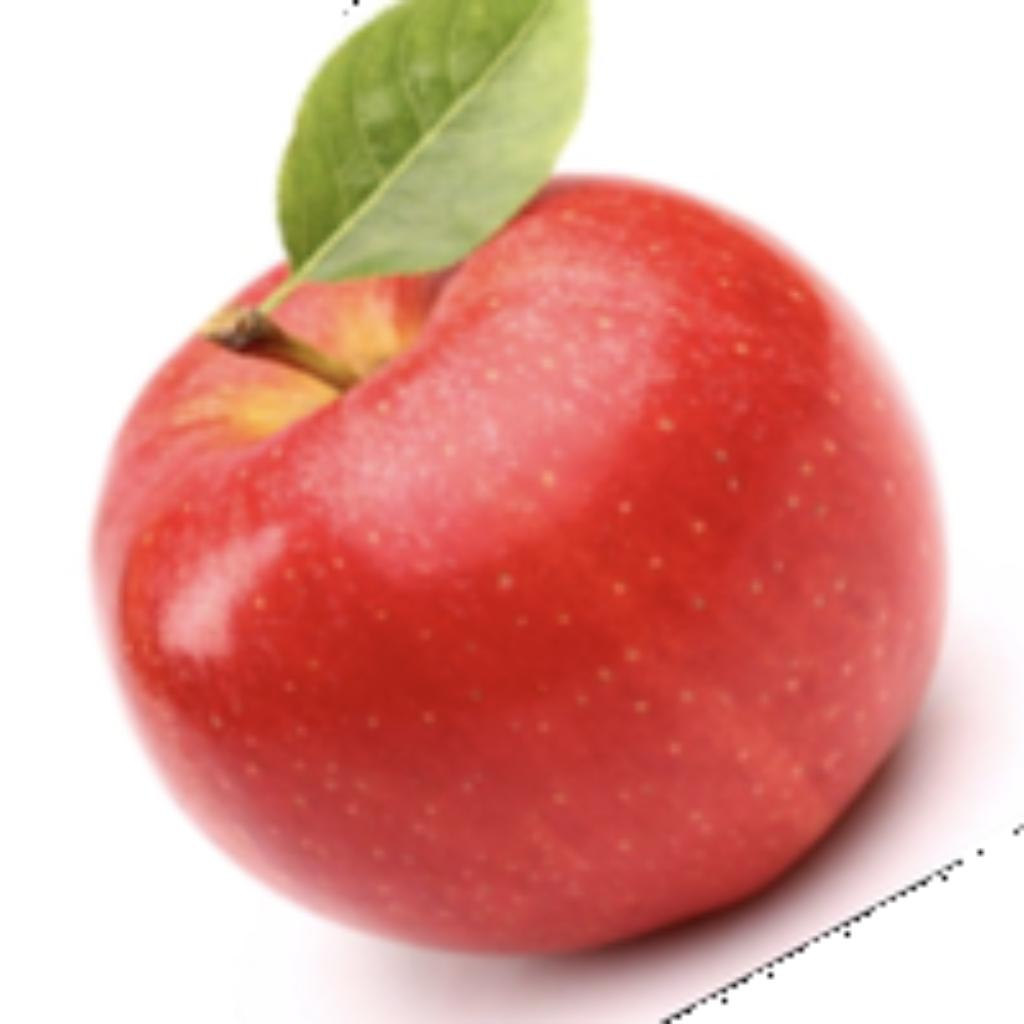apple: (77, 0, 1009, 1019)
